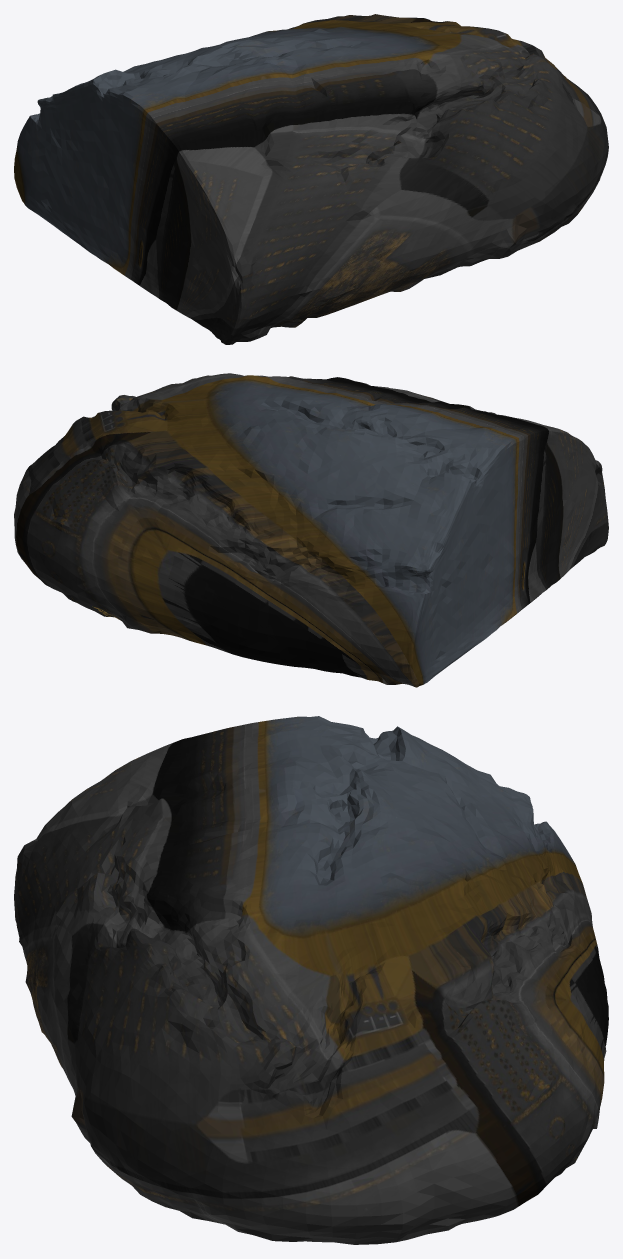
Rendered from 4RELQU04UP15TUDBLN1483PCN.obj.
The picture shows the model from 3 angles, top to bottom: view 1: azimuth 30°, elevation 25°; view 2: azimuth 150°, elevation 25°; view 3: azimuth 270°, elevation 25°; orthographic projection. The views are drawn at different scales.
Parts seen in each view (by area): view 1: Object_TexMap_0, Object_TexMap_1; view 2: Object_TexMap_0, Object_TexMap_1; view 3: Object_TexMap_0, Object_TexMap_1.
Part boxes in pixels (<box>): Object_TexMap_0: <box>14,14,608,344</box>; Object_TexMap_1: <box>20,16,582,341</box>; Object_TexMap_0: <box>14,373,608,687</box>; Object_TexMap_1: <box>49,378,597,684</box>; Object_TexMap_0: <box>14,716,608,1244</box>; Object_TexMap_1: <box>18,716,567,1178</box>.
Bounding box in the file's own units: 2.5 × 0.8917 × 1.99.
